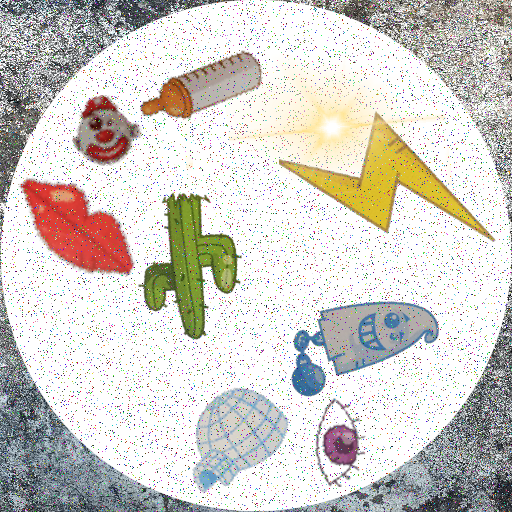bottle_icon: (136, 22, 267, 153)
cactus_icon: (115, 185, 271, 341)
clown_icon: (71, 95, 142, 166)
eye_icon: (293, 398, 382, 487)
ghost_icon: (280, 260, 445, 425)
igloo_icon: (174, 385, 293, 504)
lightning_icon: (279, 80, 502, 303)
lips_icon: (1, 163, 142, 304)
